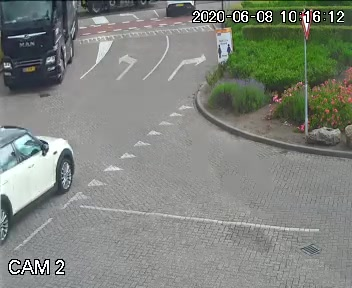car: (0, 114, 92, 257), (0, 0, 93, 97), (160, 0, 212, 22)
